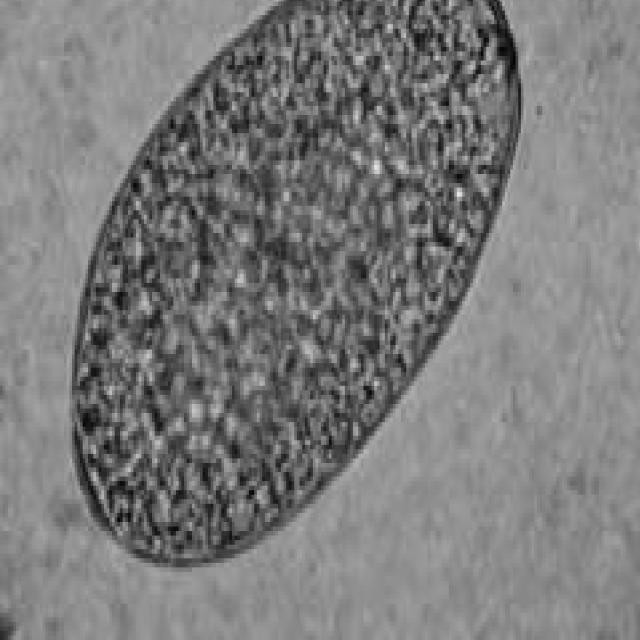Fasciola Hepatica: (63, 0, 530, 581)
